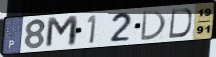1: (86, 14, 98, 46)
2: (109, 10, 136, 45)
8: (23, 18, 46, 50)
D: (139, 9, 168, 42), (167, 7, 193, 40)
M: (44, 14, 80, 50)
